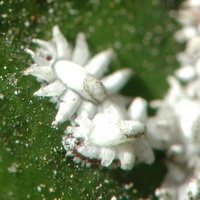insect: (23, 26, 153, 169)
